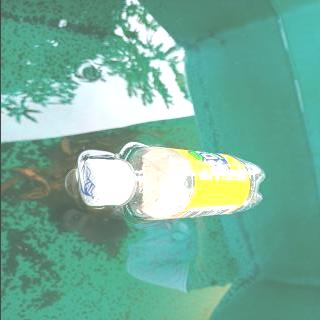bottle: (81, 145, 267, 222)
